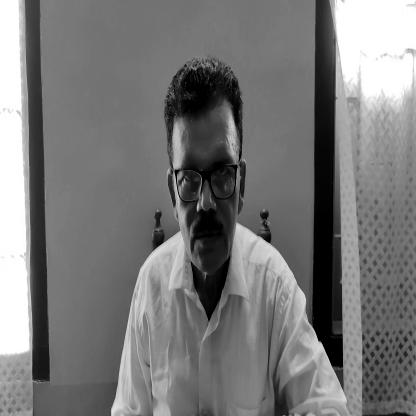Normal: (168, 66, 246, 280)
